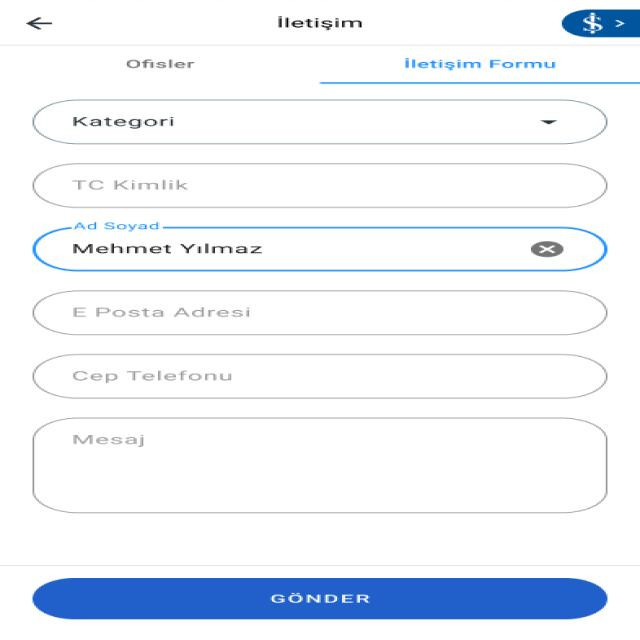QLabel: (386, 56, 570, 74), (270, 13, 364, 32), (115, 58, 208, 72), (270, 592, 378, 604)
VAppBar: (0, 0, 640, 48)
VBtn: (33, 577, 611, 621)
VCombobox: (31, 98, 610, 146)
VFooter: (0, 565, 640, 640)
VIcon: (24, 17, 53, 30)
VImg: (561, 9, 640, 38)
VTab: (324, 53, 628, 79), (17, 54, 300, 79)
VTabs: (0, 49, 640, 86)
VTextField: (31, 222, 608, 272), (32, 161, 609, 210), (30, 353, 610, 400), (33, 290, 609, 335)
VTextarea: (30, 417, 610, 515)
